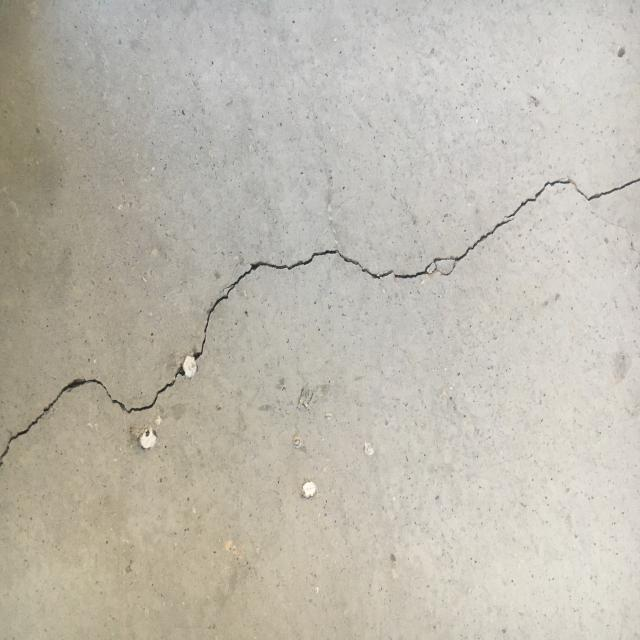Rachadura: (0, 174, 640, 469)
